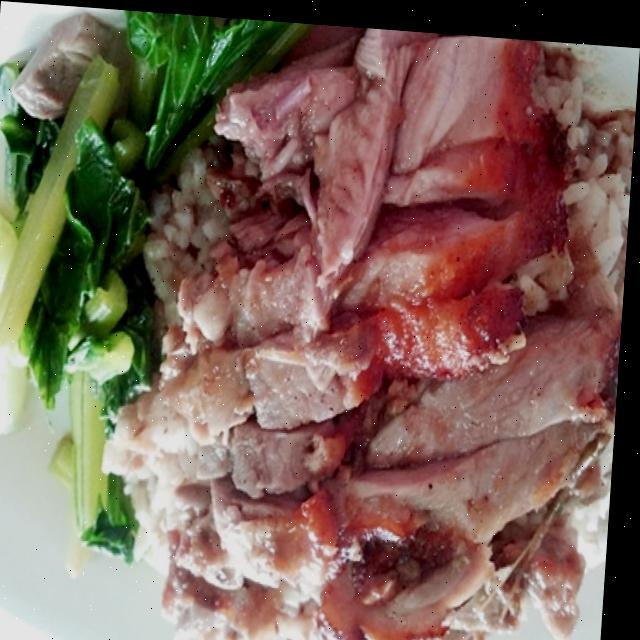米饭主食: (0, 2, 640, 640)
